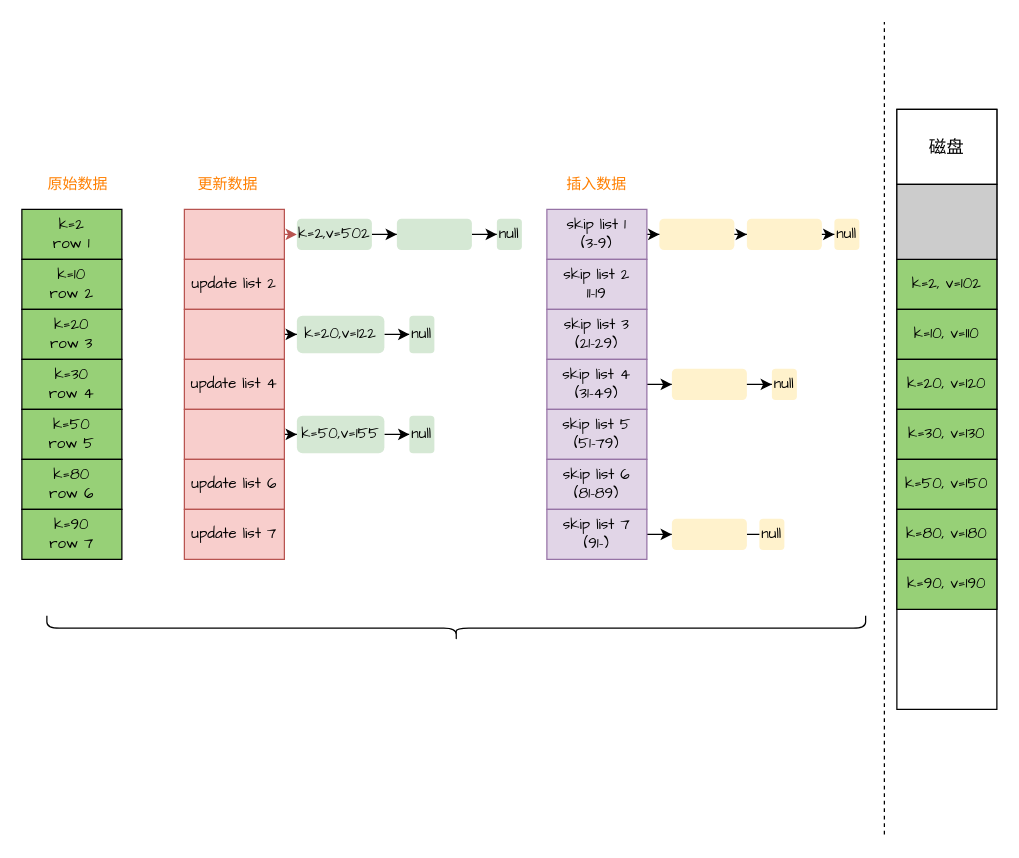
Some shapes in this 1019 by 858 pixel diagram are drawn without their labels. The shapes that lost their labels are listed below. From the top down, each one's box as (x1, y1, x2, y2) in pixels, then its label:
(183, 208, 284, 259): update list 1
(396, 218, 471, 249): k=2,v=402
(659, 218, 734, 249): k=3,v=203
(746, 218, 821, 249): k=5,v=205
(183, 308, 284, 359): update list 3
(671, 368, 746, 399): k=41,v=241
(183, 408, 284, 459): update list 5
(671, 518, 746, 549): k=99,v=299
(46, 614, 866, 641): Leaf Page
